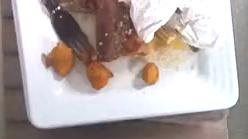carrots: (42, 42, 75, 76), (87, 62, 113, 89), (141, 63, 159, 85)
pizza_crust: (97, 0, 142, 61)
